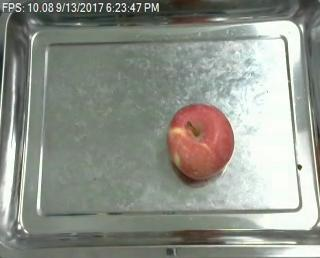apple: (167, 103, 234, 180)
